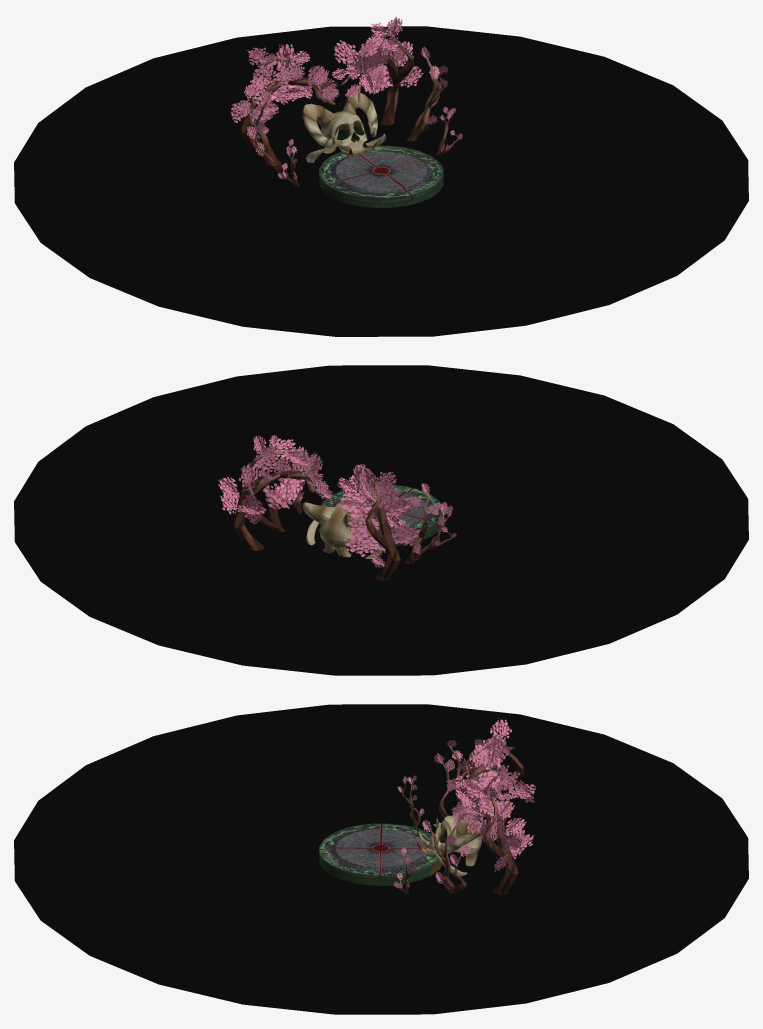
The model's file is Lilith_arena.fbx.
The picture shows the model from 3 angles, top to bottom: view 1: azimuth 30°, elevation 25°; view 2: azimuth 150°, elevation 25°; view 3: azimuth 270°, elevation 25°; orthographic projection.
Parts seen in each view (by area): view 1: polySurface_arene, polySurface_feuilles; view 2: polySurface_arene, polySurface_feuilles; view 3: polySurface_arene, polySurface_feuilles.
Boxes of the visible parts, x1,y1,x2,y2 form: polySurface_arene: [14, 26, 748, 336]; polySurface_feuilles: [229, 16, 462, 178]; polySurface_arene: [14, 365, 748, 675]; polySurface_feuilles: [218, 435, 456, 568]; polySurface_arene: [14, 704, 748, 1014]; polySurface_feuilles: [393, 717, 535, 888].
Bounding box in the file's own units: 11413 × 2111 × 11413.
